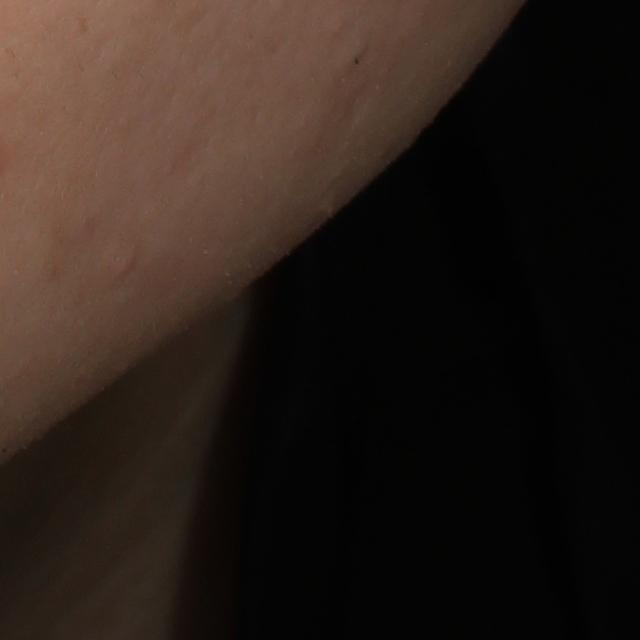papule: (116, 256, 138, 276)
